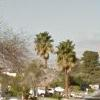Palm tree: (30, 20, 77, 87)
